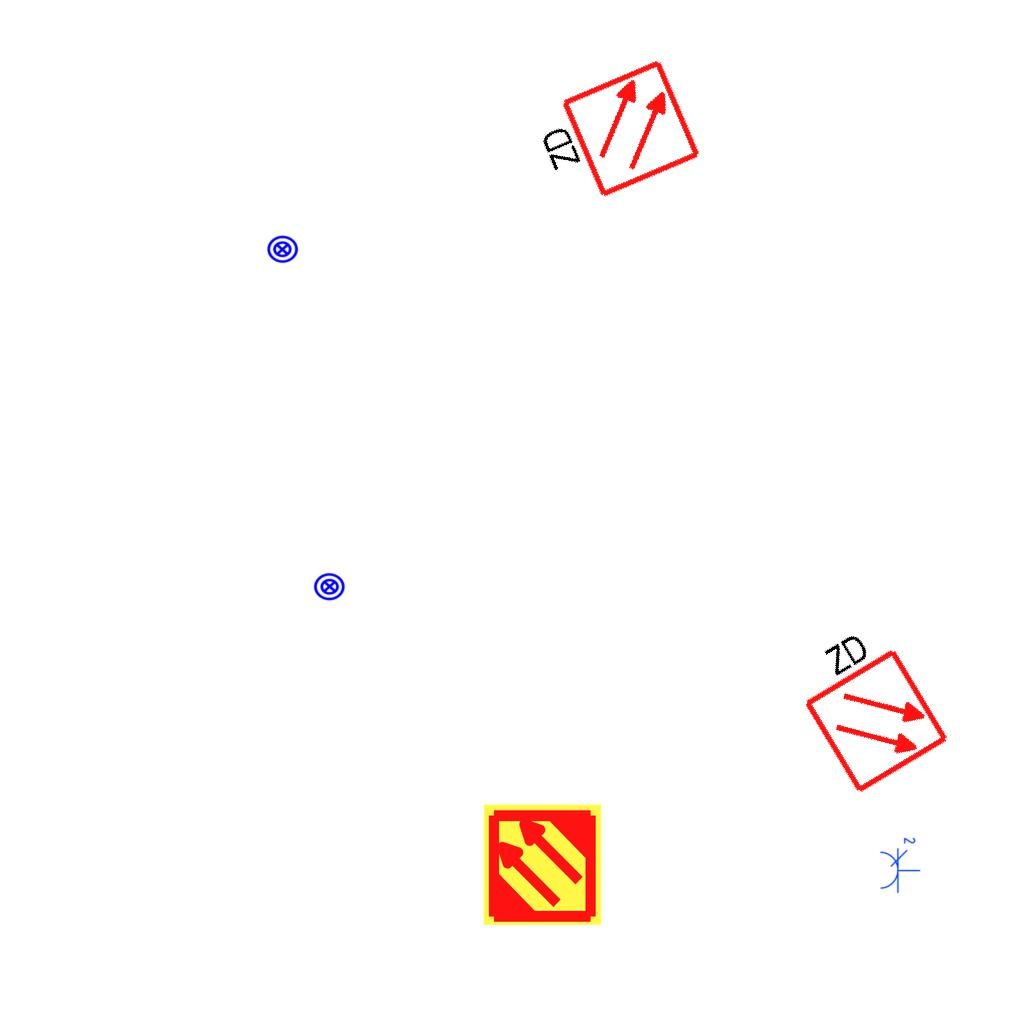ASR_Ansaugrauchmelder: (480, 802, 605, 927)
Schukosteckdose_mehrfach: (877, 834, 921, 894)
Taster_beleuchtet: (266, 233, 299, 266), (313, 570, 346, 603)
ZD_Melder_in_Zwischendecke_mit_Revisionsoeffnung_mind_40_x_40_cm: (777, 612, 953, 799), (523, 55, 705, 220)
